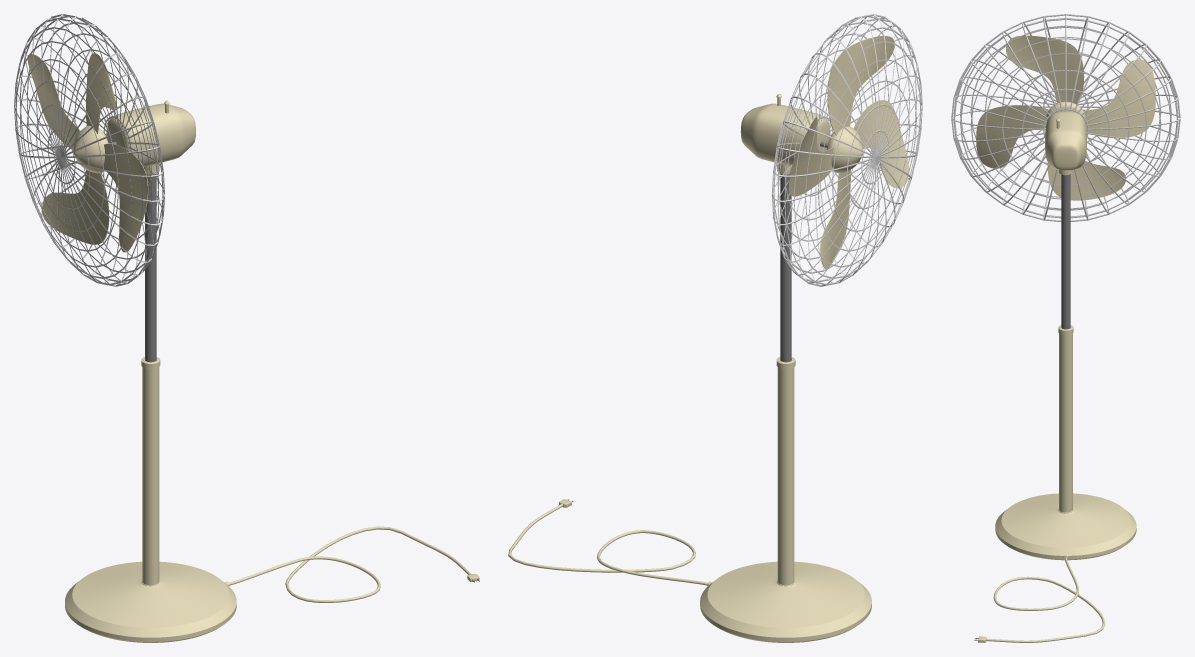
Rendered from Ventilador.fbx.
The picture shows the model from 3 angles, left to right: view 1: azimuth 30°, elevation 25°; view 2: azimuth 150°, elevation 25°; view 3: azimuth 270°, elevation 25°; orthographic projection. The views are drawn at different scales.
Parts seen in each view (by area): view 1: Pata, Rejilla, Plane.001, Motor, Cylinder.002, BezierCurve, Aspas; view 2: Pata, Rejilla, Plane.001, Motor, Cylinder.002, BezierCurve, Aspas; view 3: Rejilla, Plane.001, Pata, Motor, Cylinder.002, BezierCurve.
Part boxes in pixels (x1,y1,x2,y2): Pata: (65,357,236,642); Rejilla: (14,14,164,286); Plane.001: (27,53,148,252); Motor: (106,103,195,166); Cylinder.002: (145,173,156,362); BezierCurve: (229,526,471,602); Aspas: (73,125,108,173); Pata: (700,357,871,642); Rejilla: (771,14,922,286); Plane.001: (788,35,909,269); Motor: (740,103,830,166); Cylinder.002: (780,174,791,362); BezierCurve: (508,504,707,585); Aspas: (827,126,863,173); Rejilla: (951,14,1180,221); Plane.001: (976,35,1155,200); Pata: (995,325,1136,560); Motor: (1045,111,1086,170); Cylinder.002: (1061,174,1070,329); BezierCurve: (986,557,1105,642).
Bounding box in the file's own units: 99.16 × 155 × 65.25.
